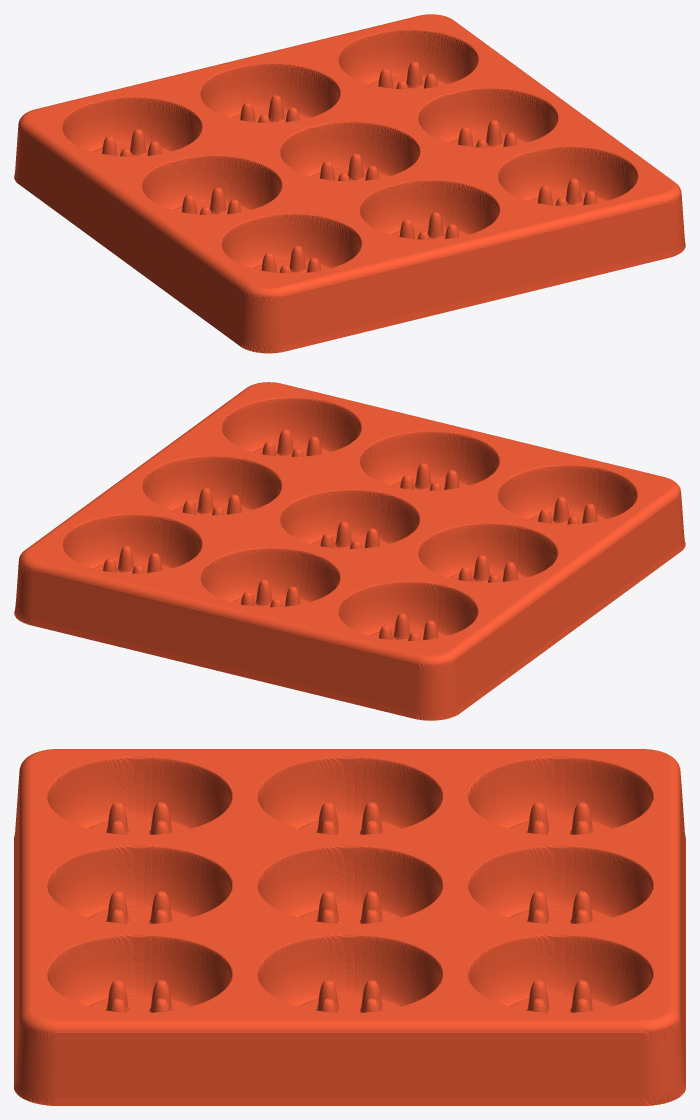
Rendered from mold.glb.
3 renders of one model, top to bottom at view 1: azimuth 30°, elevation 25°; view 2: azimuth 150°, elevation 25°; view 3: azimuth 270°, elevation 25°, orthographic. The views are drawn at different scales.
Parts seen in each view (by area): view 1: geometry_0; view 2: geometry_0; view 3: geometry_0.
Boxes of the visible parts, box(x1,y1,x2,y2) form: geometry_0: box(14, 14, 685, 353); geometry_0: box(14, 382, 685, 720); geometry_0: box(14, 749, 685, 1105).
Size of the model in its own units: 0.1402 by 0.0182 by 0.1402.
